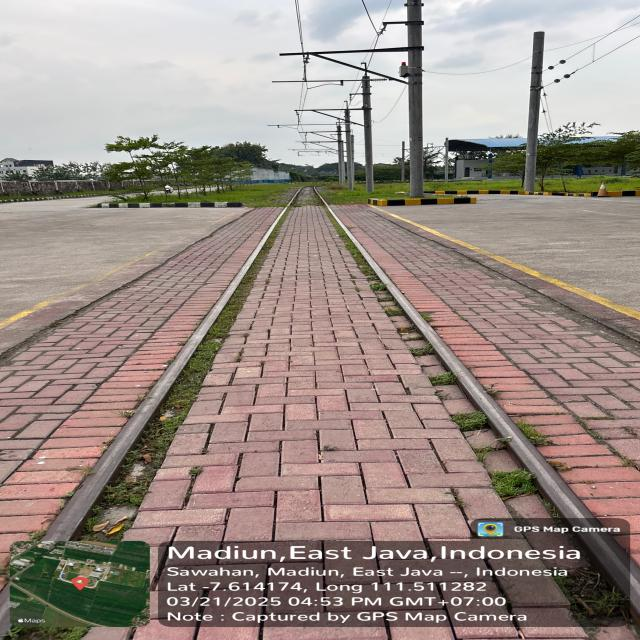rail-detection: (42, 203, 289, 545), (331, 210, 589, 518), (587, 537, 623, 572)
